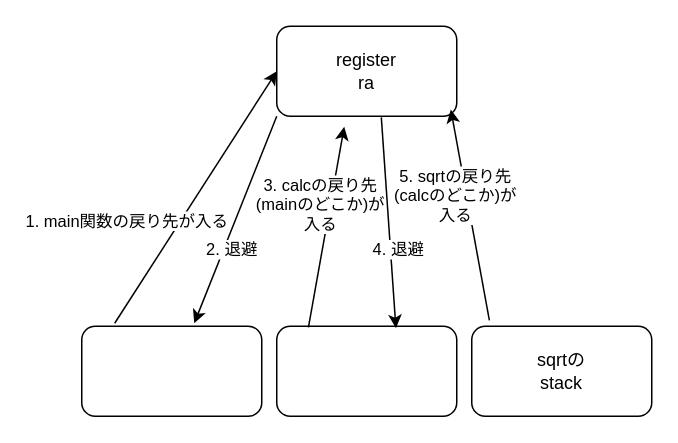
The diagram is 678 pixels wide and 443 high, and some of its shapes have lost their labels. Here are the shapes that lost their labels. From the top down, the box of each, then its label:
(80, 325, 262, 416): mainの stack
(275, 325, 457, 416): calcの stack
